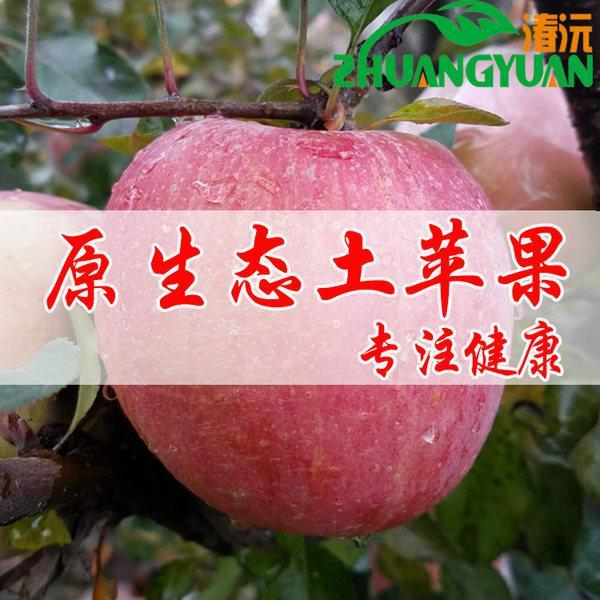apple: (84, 112, 528, 542)
